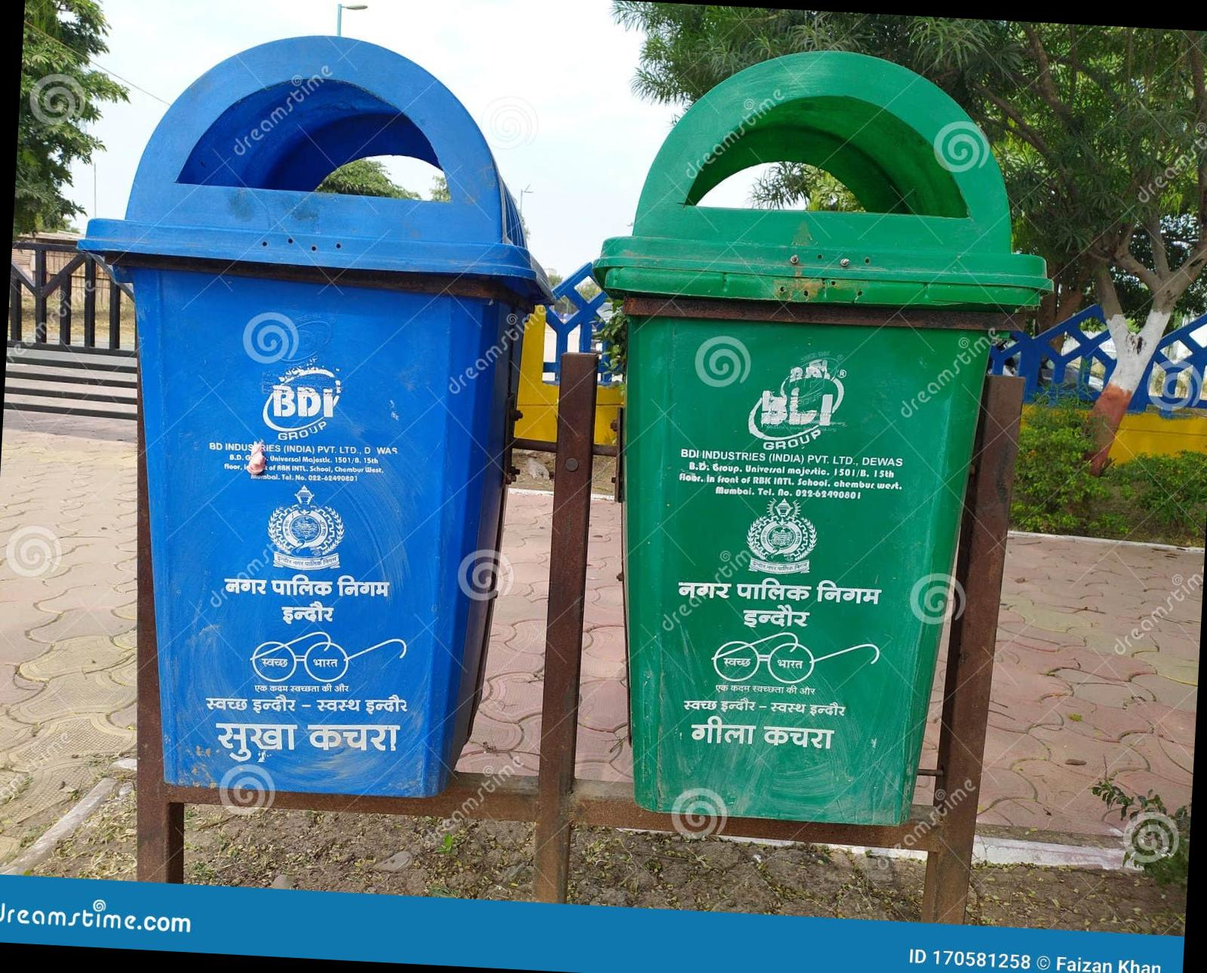garbage bin: (80, 36, 552, 797), (624, 316, 989, 824)
pavement: (980, 533, 1204, 837), (0, 413, 136, 865), (461, 488, 551, 774), (577, 499, 631, 778)
sky: (71, 0, 675, 275)
